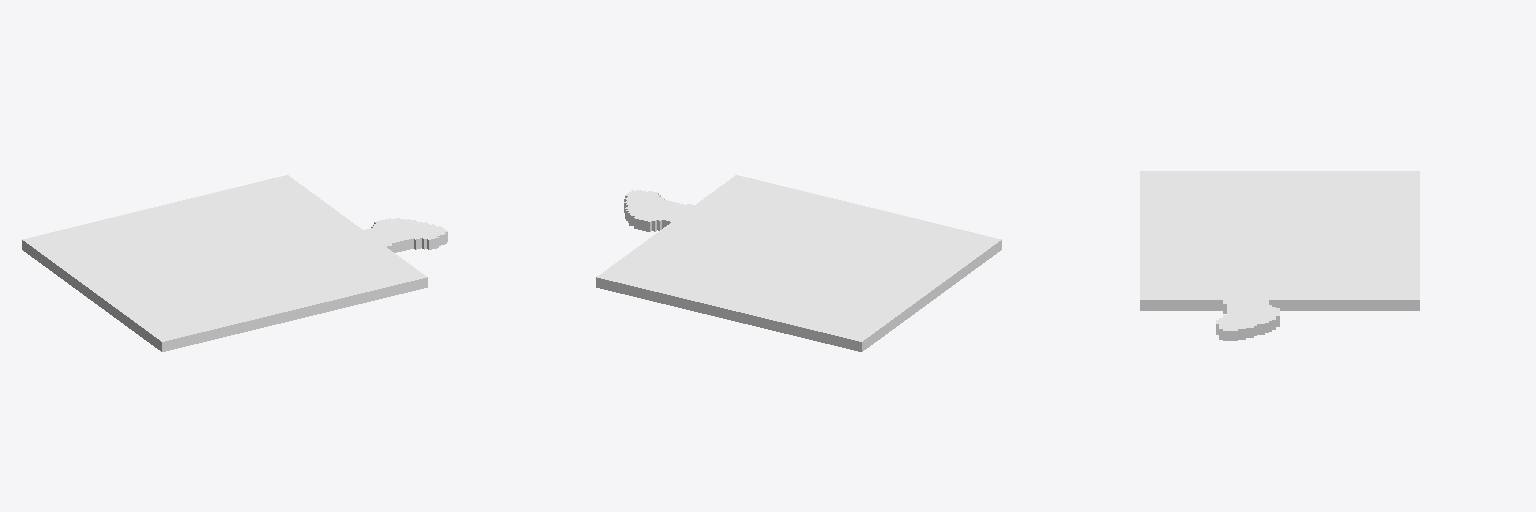
The model's file is puzzle_3.obj.
3 views of the same model, side by side, from view 1: azimuth 30°, elevation 25°; view 2: azimuth 150°, elevation 25°; view 3: azimuth 270°, elevation 25° (orthographic).
Bounding box in the file's own units: 100 × 3 × 74.